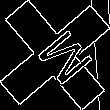M_SW: (21, 21, 89, 89)
